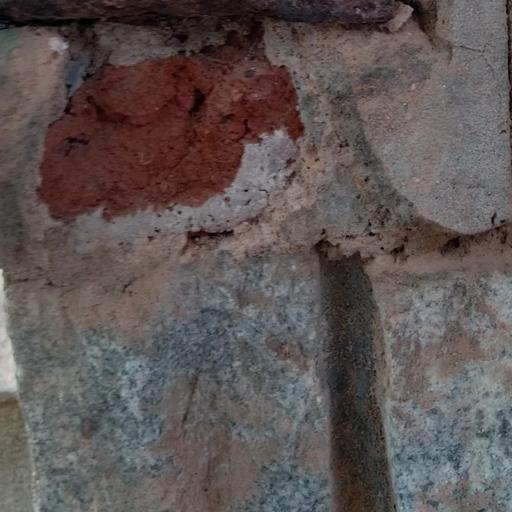spalling: (34, 26, 324, 227)
